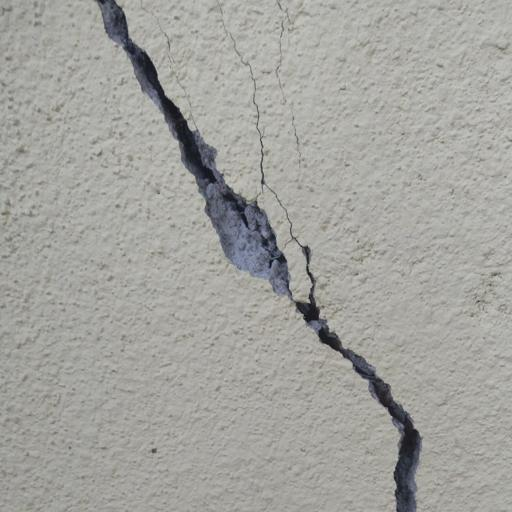major_crack: (92, 0, 426, 512)
